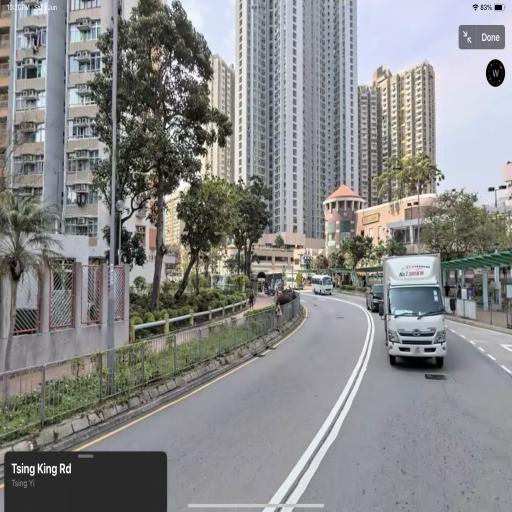Roads: (75, 280, 498, 494)
Trees: (95, 0, 279, 336)
